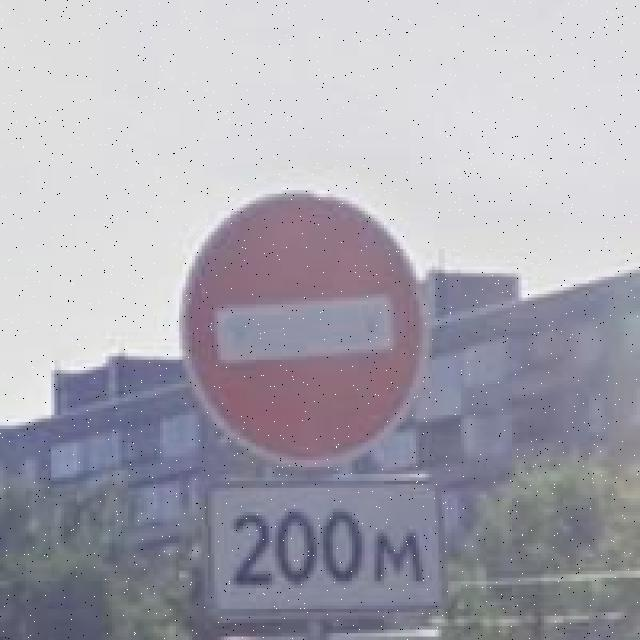Zakaz wjazdu: (179, 187, 432, 470)
